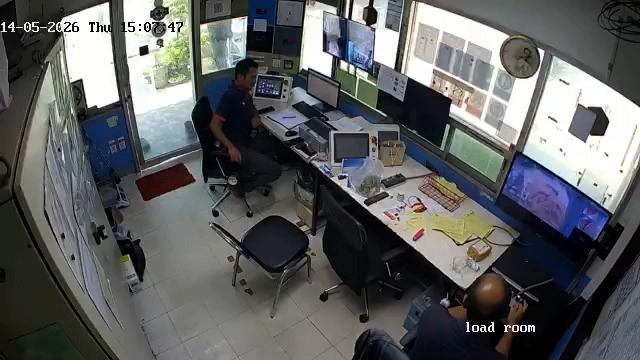Head: (463, 275, 510, 319), (233, 58, 260, 86)
People: (412, 272, 526, 360), (213, 58, 282, 193)
Phone: (256, 106, 275, 115)
